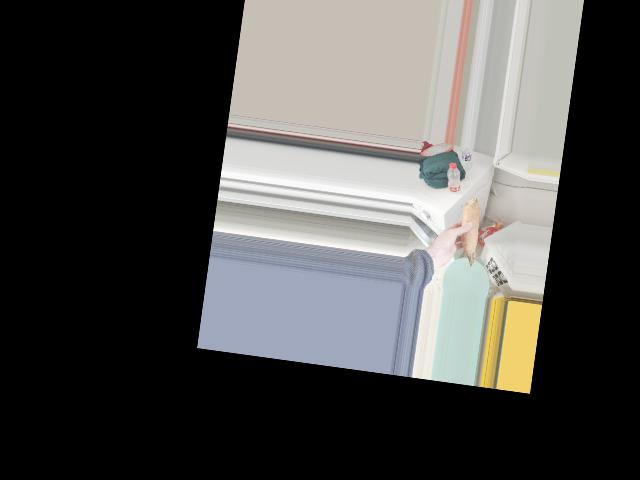sweet_potato: (452, 193, 488, 266)
